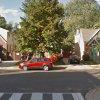Crosswalk: (4, 85, 100, 99)
